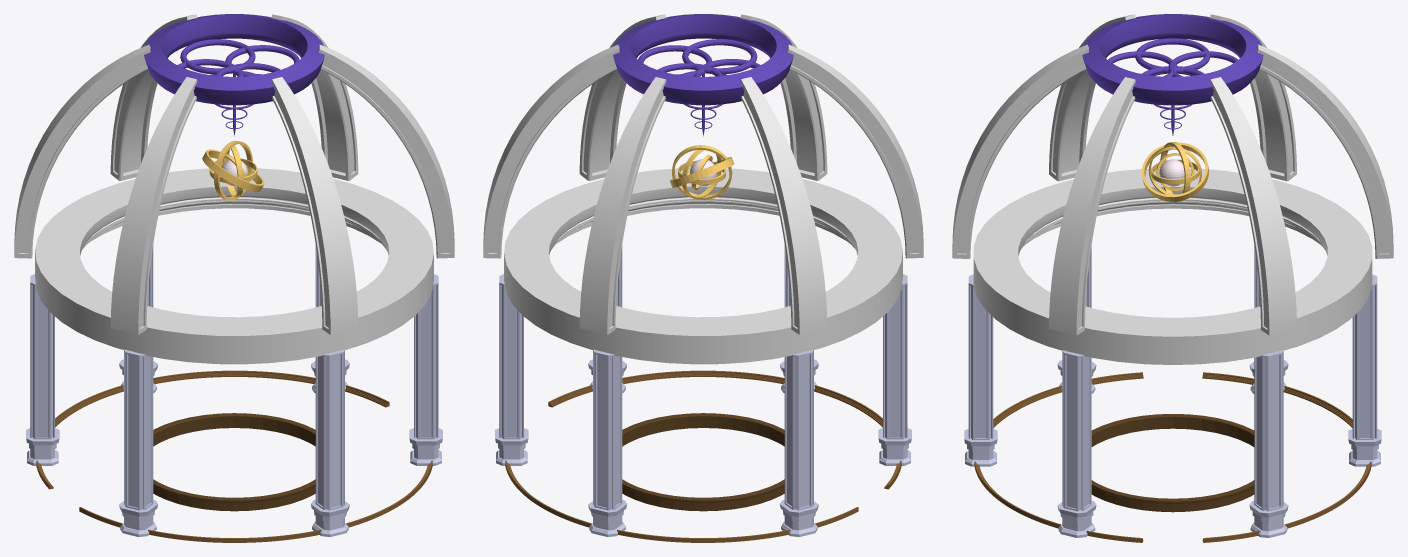
Rendered from Witch_fighting_arena_Pillar_Frame.fbx.
3 views of the same model, side by side, from view 1: azimuth 30°, elevation 25°; view 2: azimuth 150°, elevation 25°; view 3: azimuth 270°, elevation 25° (orthographic).
Parts seen in each view (by area): view 1: Roof_Round_pillar, Room_Round_pillar, Pillar_long, Roof_Iron_Ring, Arena_ground_Frame, Floor_frame, Roof_Ball_ring; view 2: Roof_Round_pillar, Room_Round_pillar, Pillar_long, Roof_Iron_Ring, Arena_ground_Frame, Floor_frame, Roof_Ball_ring; view 3: Roof_Round_pillar, Room_Round_pillar, Pillar_long, Roof_Iron_Ring, Arena_ground_Frame, Floor_frame, Roof_Ball_ring.
Boxes of the visible parts, x1,y1,x2,y2 form: Roof_Round_pillar: (14,14,454,334); Room_Round_pillar: (35,168,433,364); Pillar_long: (26,245,442,536); Roof_Iron_Ring: (144,14,324,136); Arena_ground_Frame: (153,413,315,511); Floor_frame: (36,370,432,542); Roof_Ball_ring: (202,140,264,200); Roof_Round_pillar: (483,14,923,334); Room_Round_pillar: (504,168,902,364); Pillar_long: (495,245,911,536); Roof_Iron_Ring: (613,14,793,136); Arena_ground_Frame: (622,413,784,511); Floor_frame: (505,370,901,542); Roof_Ball_ring: (670,145,734,199); Roof_Round_pillar: (952,14,1393,335); Room_Round_pillar: (973,168,1372,364); Pillar_long: (964,246,1381,537); Roof_Iron_Ring: (1082,14,1263,135); Arena_ground_Frame: (1091,414,1254,512); Floor_frame: (974,372,1371,542); Roof_Ball_ring: (1141,142,1208,202).
Size of the model in its own units: 117 by 137 by 129.
